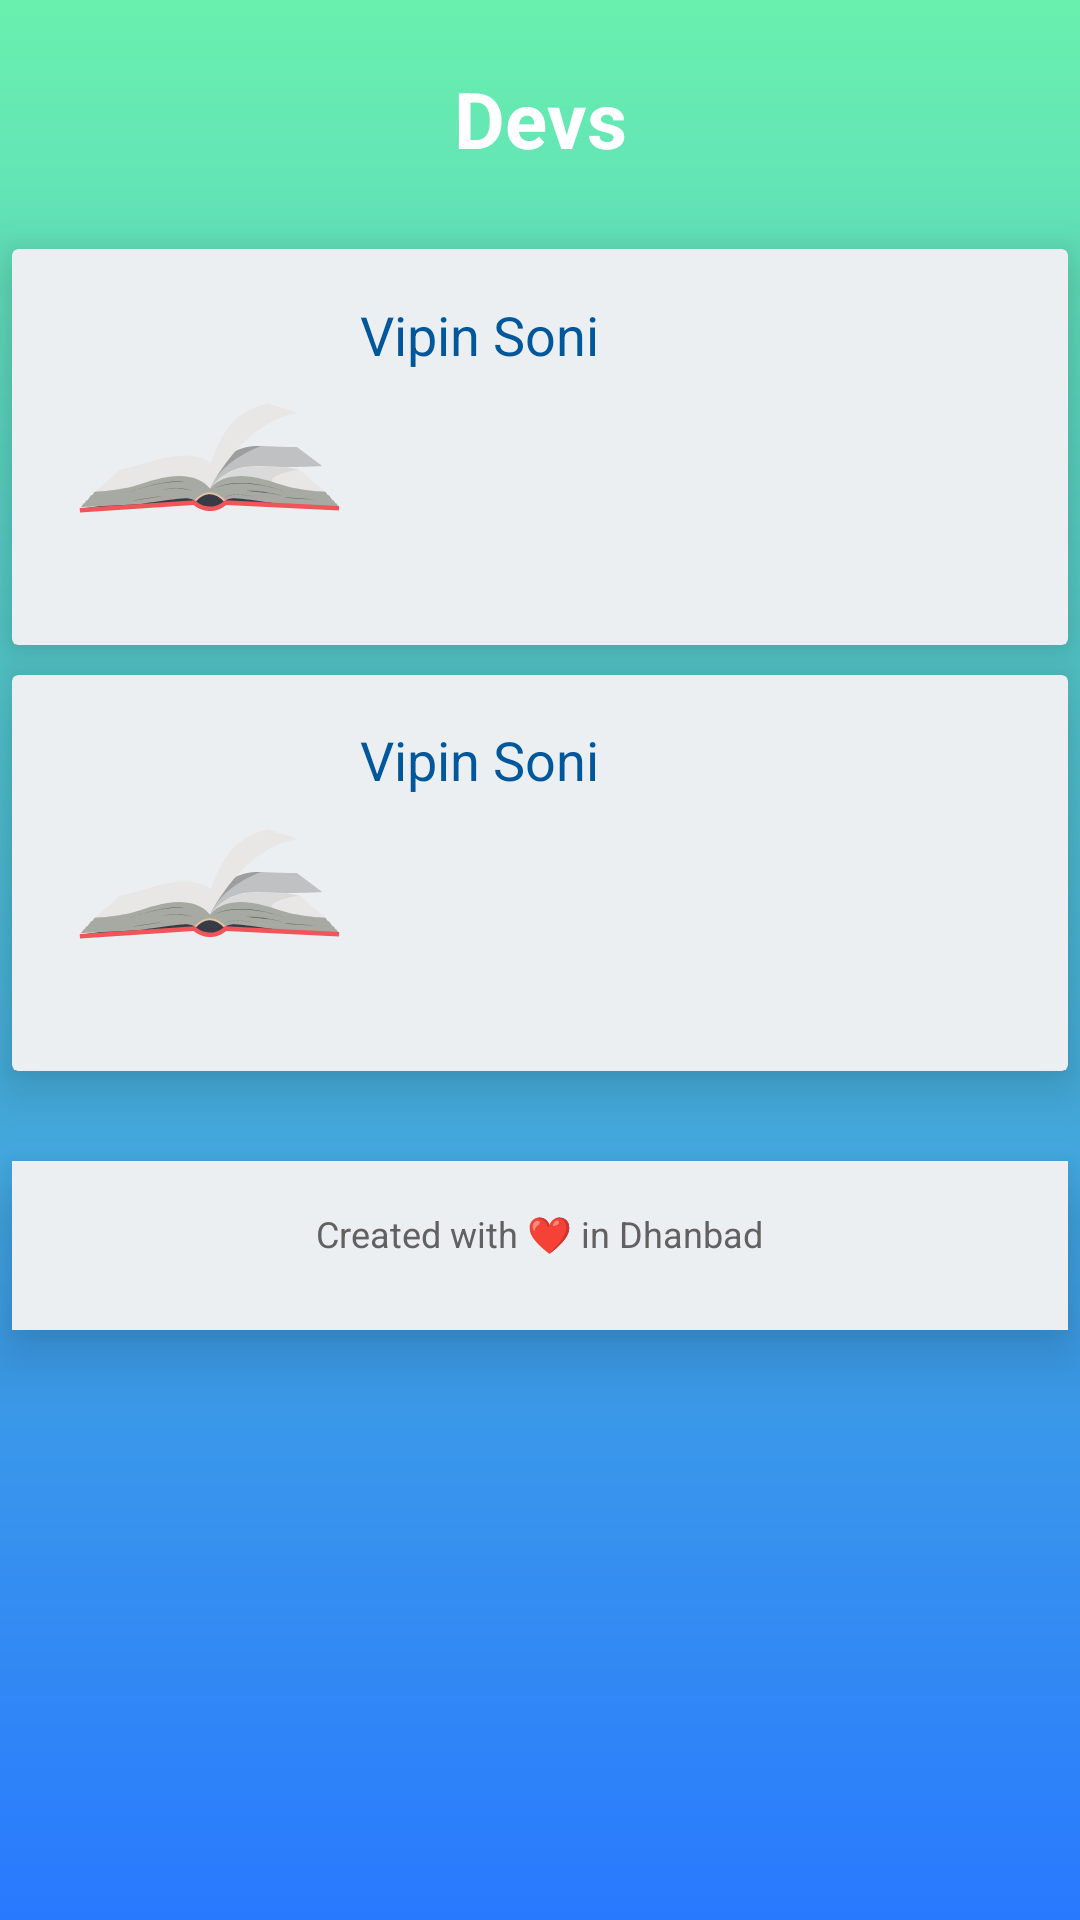

Where icons sit on this 1080*1920 app screen, as [left=x1, top=y1, right=x2, bottom=y2]:
book: [left=79, top=446, right=339, bottom=513], [left=79, top=872, right=339, bottom=939]
